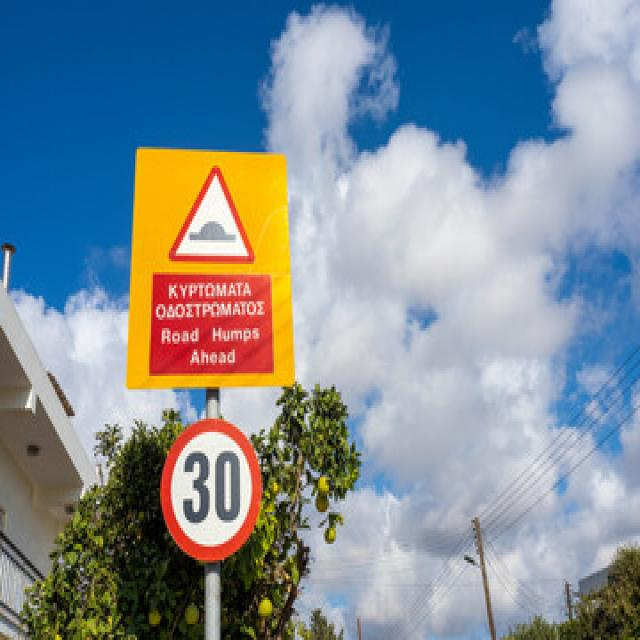hump: (164, 162, 260, 266)
